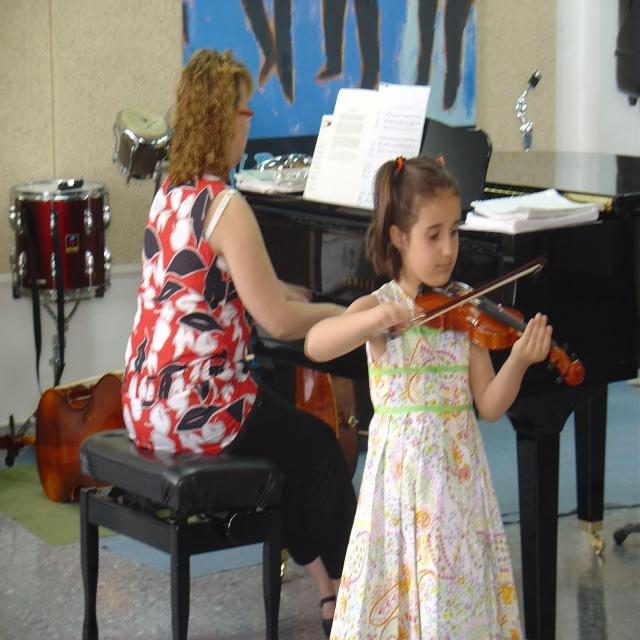cello: (36, 365, 162, 504)
violin: (412, 283, 587, 390)
